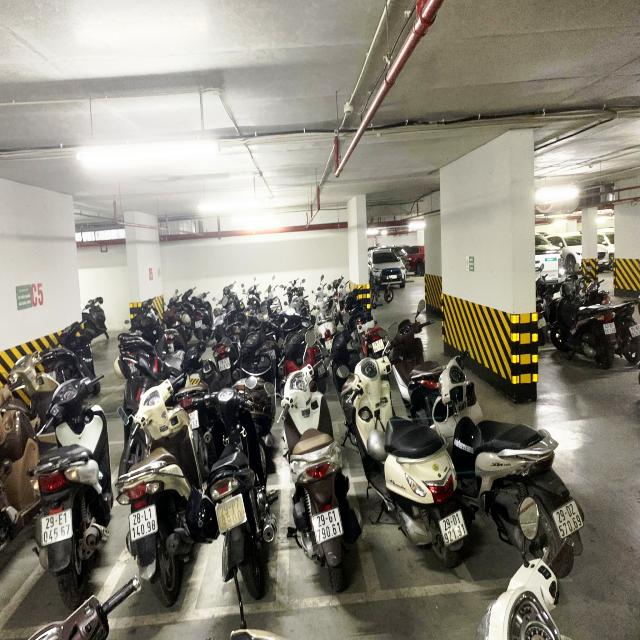license_plate: (213, 491, 251, 540), (550, 497, 587, 543), (39, 505, 75, 550), (311, 504, 347, 548), (127, 502, 161, 547), (438, 507, 471, 551), (217, 356, 233, 374), (372, 339, 387, 355)
